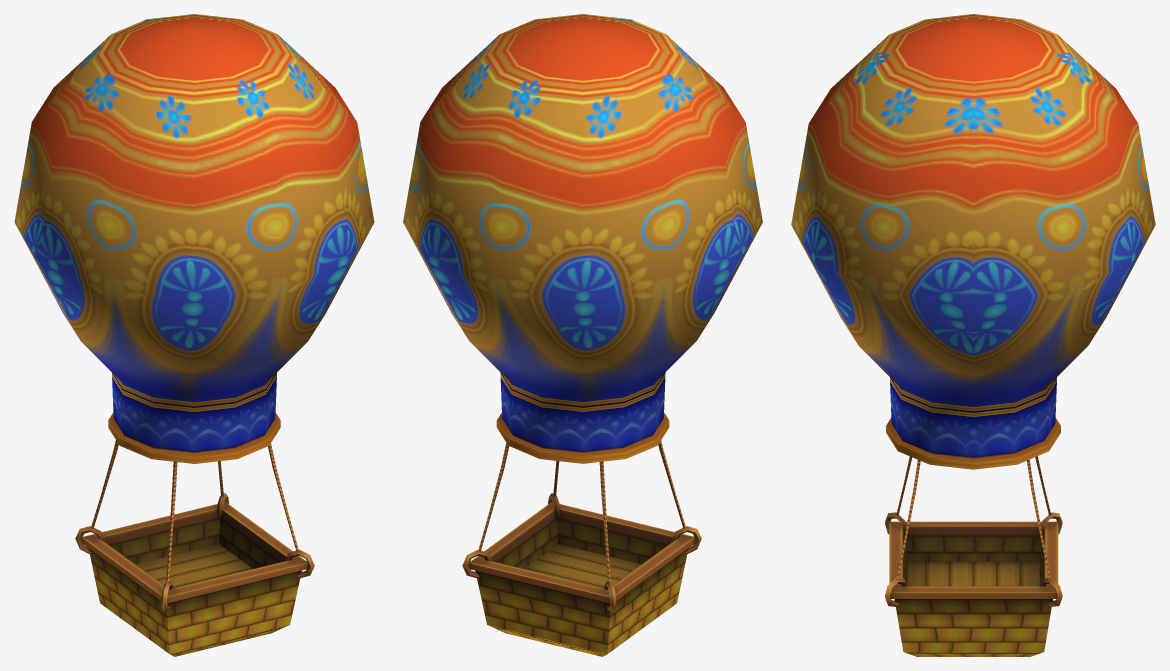
Rendered from balloon.gltf.
3 views of the same model, side by side, from view 1: azimuth 30°, elevation 25°; view 2: azimuth 150°, elevation 25°; view 3: azimuth 270°, elevation 25° (orthographic).
Visible parts, largest first — view 1: Balloon_01; view 2: Balloon_01; view 3: Balloon_01.
Part boxes in pixels (bbox=[...]): Balloon_01: bbox=[14, 14, 374, 656]; Balloon_01: bbox=[403, 14, 762, 656]; Balloon_01: bbox=[791, 14, 1155, 656].
Size of the model in its own units: 3.03 by 5.52 by 3.03.
1 material, 1 textured.
